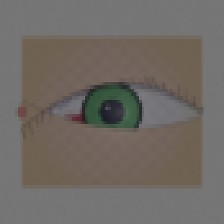hemorrhage_spot: (59, 89, 143, 155)
